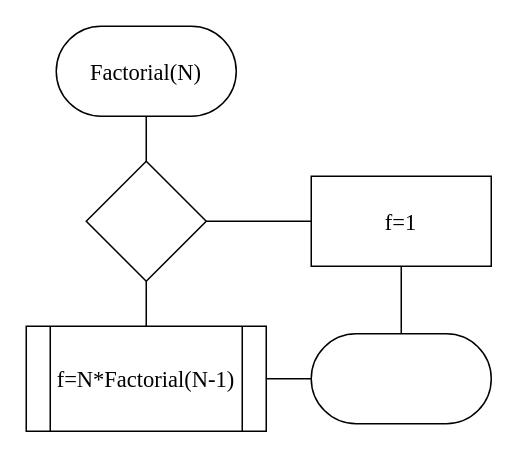
Some shapes in this 518 by 458 pixel diagram are drawn without their labels. The shapes that lost their labels are listed below. From the top down, each one's centre as x and y in pixels, then its label:
At (x=145, y=220): "N==1?".
At (x=400, y=378): "Возврат f".
